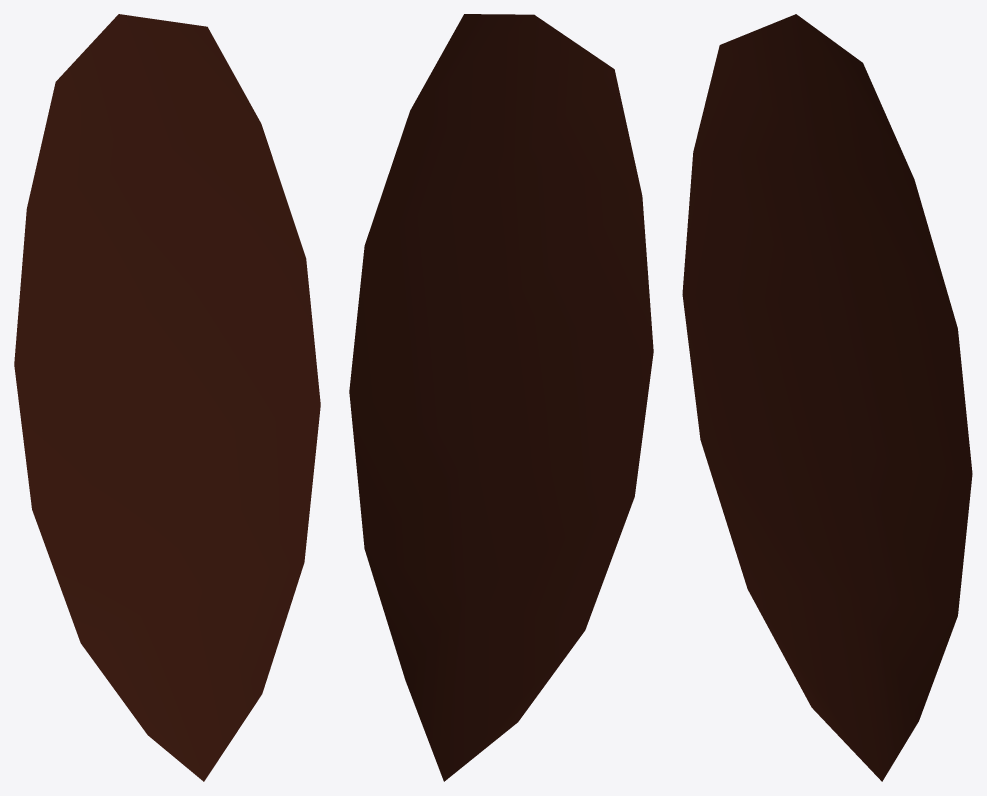
File: rooster_feather_flight_tertiary_049.obj
The picture shows the model from 3 angles, left to right: view 1: azimuth 30°, elevation 25°; view 2: azimuth 150°, elevation 25°; view 3: azimuth 330°, elevation 25°; orthographic projection. The views are drawn at different scales.
Visible parts, largest first — view 1: feather_flight_tertiary_049; view 2: feather_flight_tertiary_049; view 3: feather_flight_tertiary_049.
Part boxes in pixels (left/top/right/bottom): feather_flight_tertiary_049: left=14, top=14, right=320, bottom=781; feather_flight_tertiary_049: left=349, top=14, right=653, bottom=781; feather_flight_tertiary_049: left=682, top=14, right=972, bottom=781.
Size of the model in its own units: 0.00971 by 0.024 by 0.000653.
